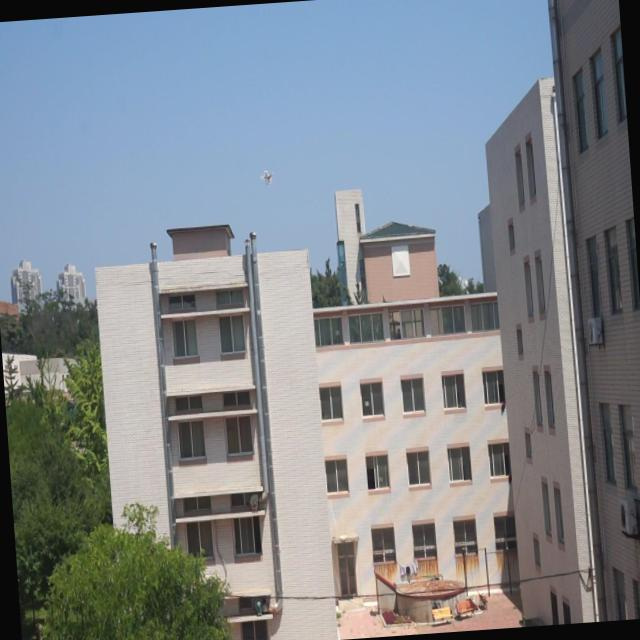drone: (258, 166, 274, 188)
